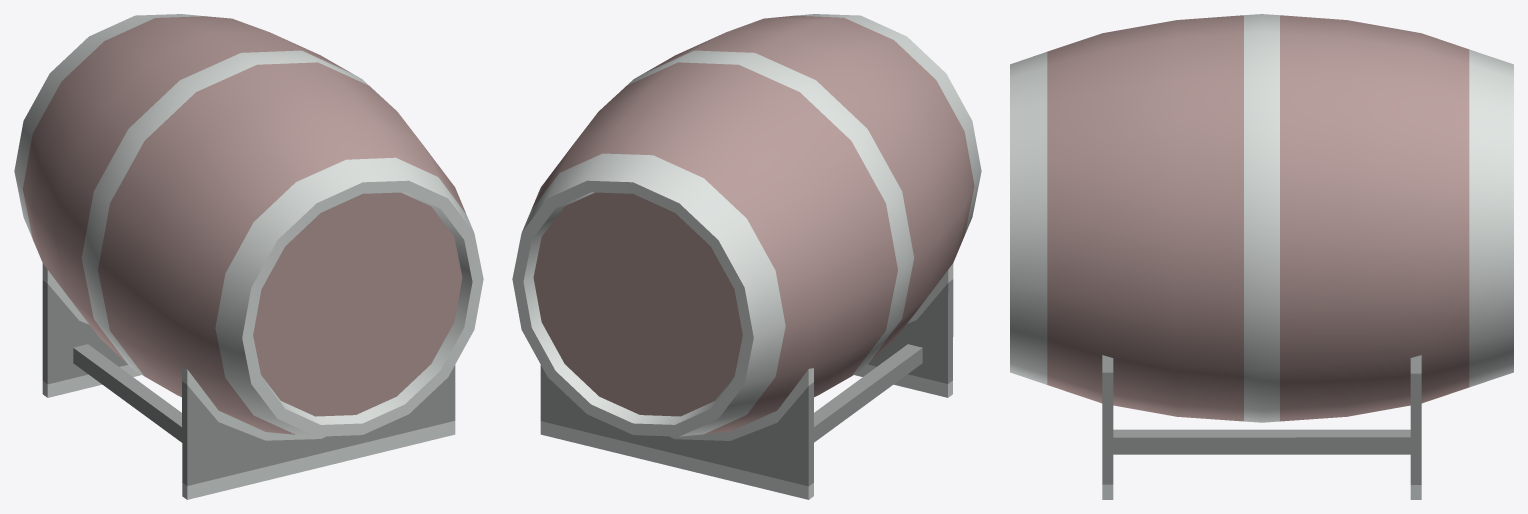
3 renders of one model, left to right at view 1: azimuth 30°, elevation 25°; view 2: azimuth 150°, elevation 25°; view 3: azimuth 270°, elevation 25°, orthographic. The views are drawn at different scales.
Parts seen in each view (by area): view 1: G:\FFXIV-MapTools\exports\m5f1\bg\ex4\02_mid_m5\fld\m5f1\bgp (×2); view 2: G:\FFXIV-MapTools\exports\m5f1\bg\ex4\02_mid_m5\fld\m5f1\bgp (×2); view 3: G:\FFXIV-MapTools\exports\m5f1\bg\ex4\02_mid_m5\fld\m5f1\bgp (×2).
Boxes of the visible parts, <box> form: G:\FFXIV-MapTools\exports\m5f1\bg\ex4\02_mid_m5\fld\m5f1\bgp (×2): <box>14,14,483,499</box>; G:\FFXIV-MapTools\exports\m5f1\bg\ex4\02_mid_m5\fld\m5f1\bgp (×2): <box>512,14,981,499</box>; G:\FFXIV-MapTools\exports\m5f1\bg\ex4\02_mid_m5\fld\m5f1\bgp (×2): <box>1010,14,1513,499</box>.
Bounding box in the file's own units: 0.7061 × 0.7515 × 0.8696.
